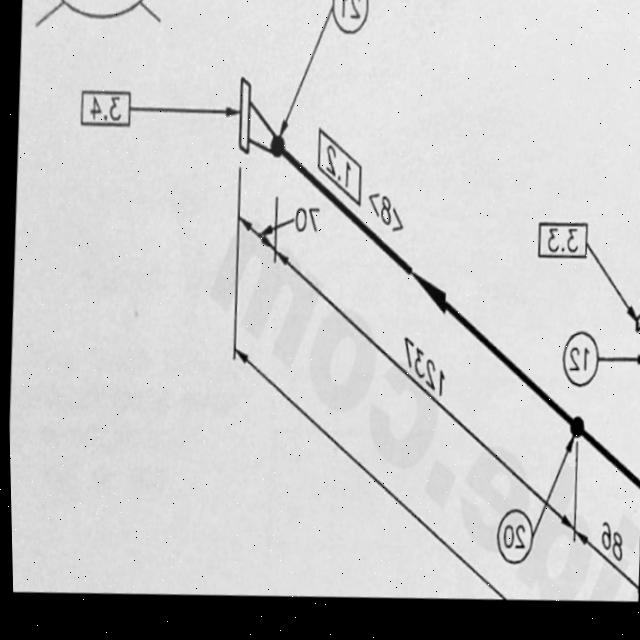Item number: (312, 121, 361, 212), (534, 222, 587, 266), (77, 88, 130, 129)
Measrement: (272, 217, 572, 542), (568, 494, 637, 601)
Pipeline: (282, 152, 640, 501)
Symbol: (237, 75, 288, 167), (407, 269, 450, 323), (632, 309, 640, 377)
Weld number: (491, 511, 533, 571), (558, 330, 597, 394), (329, 0, 369, 41)
